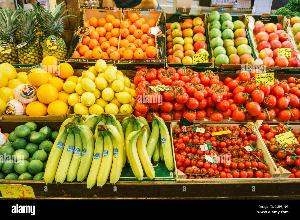apple: (246, 10, 300, 70), (209, 8, 256, 68), (166, 13, 212, 65)
banana: (56, 117, 174, 185)
lemon: (68, 62, 132, 119)
lime: (0, 120, 56, 184)
orange: (0, 56, 74, 118), (68, 7, 122, 58), (120, 12, 162, 61)
pineapple: (0, 0, 74, 66)
tomato: (134, 64, 300, 123), (176, 118, 274, 182), (262, 119, 300, 177)
